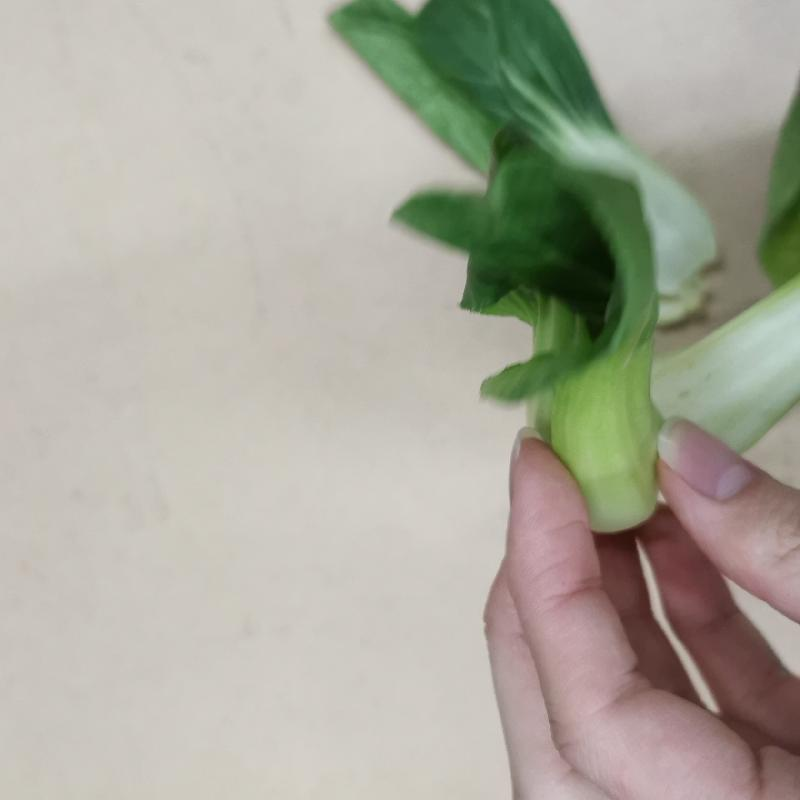green vegatable: (386, 118, 677, 537)
